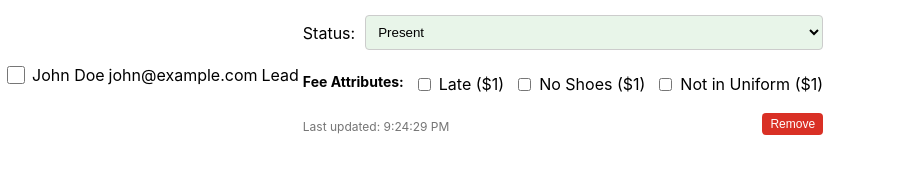
it: StudentAttendanceRow › should calculate and display fees correctly for present status with attributes
Note: Check the 'Late' checkbox ($1 fee)
Step 1. Click the checkbox labelled "Late ($1)" → (424, 84), box [418,78,431,90]
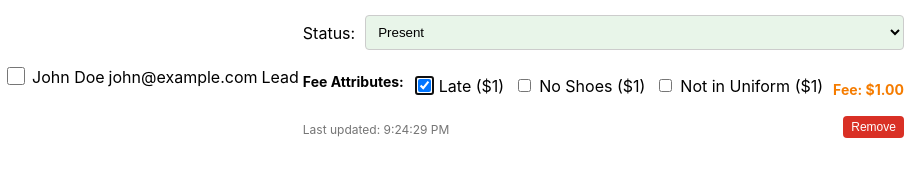
Expected: the text "Fee: $1.00" is shown, [833,81,904,98]
Note: Add 'No Shoes' attribute ($1 fee)
Step 2. Click the checkbox labelled "No Shoes ($1)" → (525, 86), box [518,79,531,92]
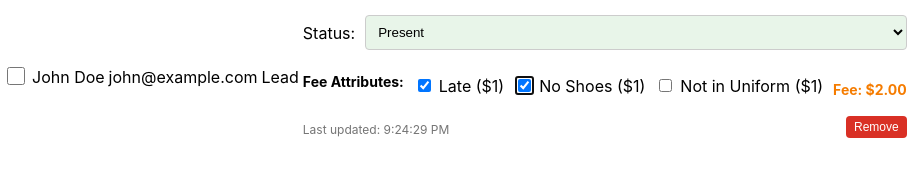
Expected: the text "Fee: $2.00" is shown, [833,81,907,98]
Note: Add 'Not in Uniform' attribute ($1 fee)
Step 3. Click the checkbox labelled "Not in Uniform ($1)" → (666, 86), box [659,79,672,92]
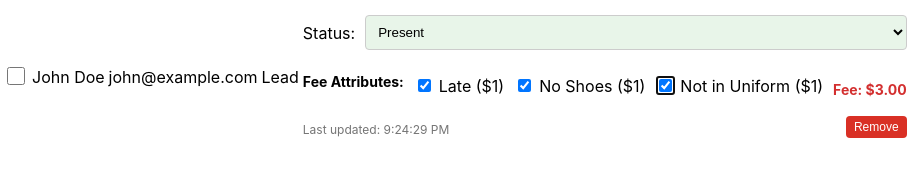
Expected: the text "Fee: $3.00" is shown, [833,81,907,98]
